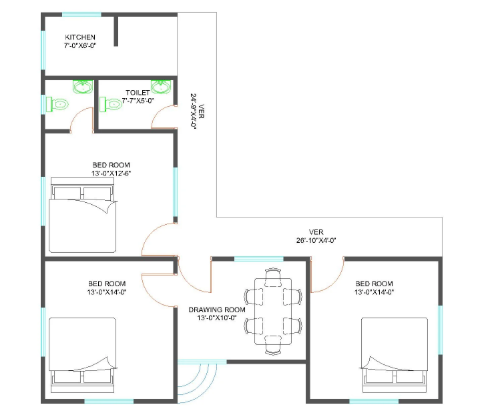door: (178, 260, 216, 296), (307, 258, 345, 294), (137, 219, 171, 257), (138, 270, 172, 308), (146, 105, 174, 130), (66, 106, 94, 129)
room: (41, 256, 178, 402), (305, 257, 442, 403), (41, 128, 178, 261)
